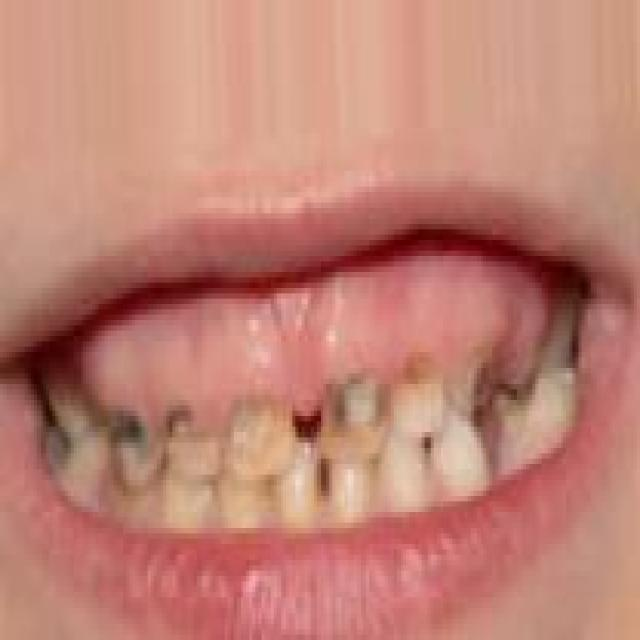caries: (315, 362, 390, 467), (225, 394, 300, 482), (388, 335, 443, 436), (162, 399, 222, 491), (102, 406, 160, 498), (449, 342, 502, 442)
